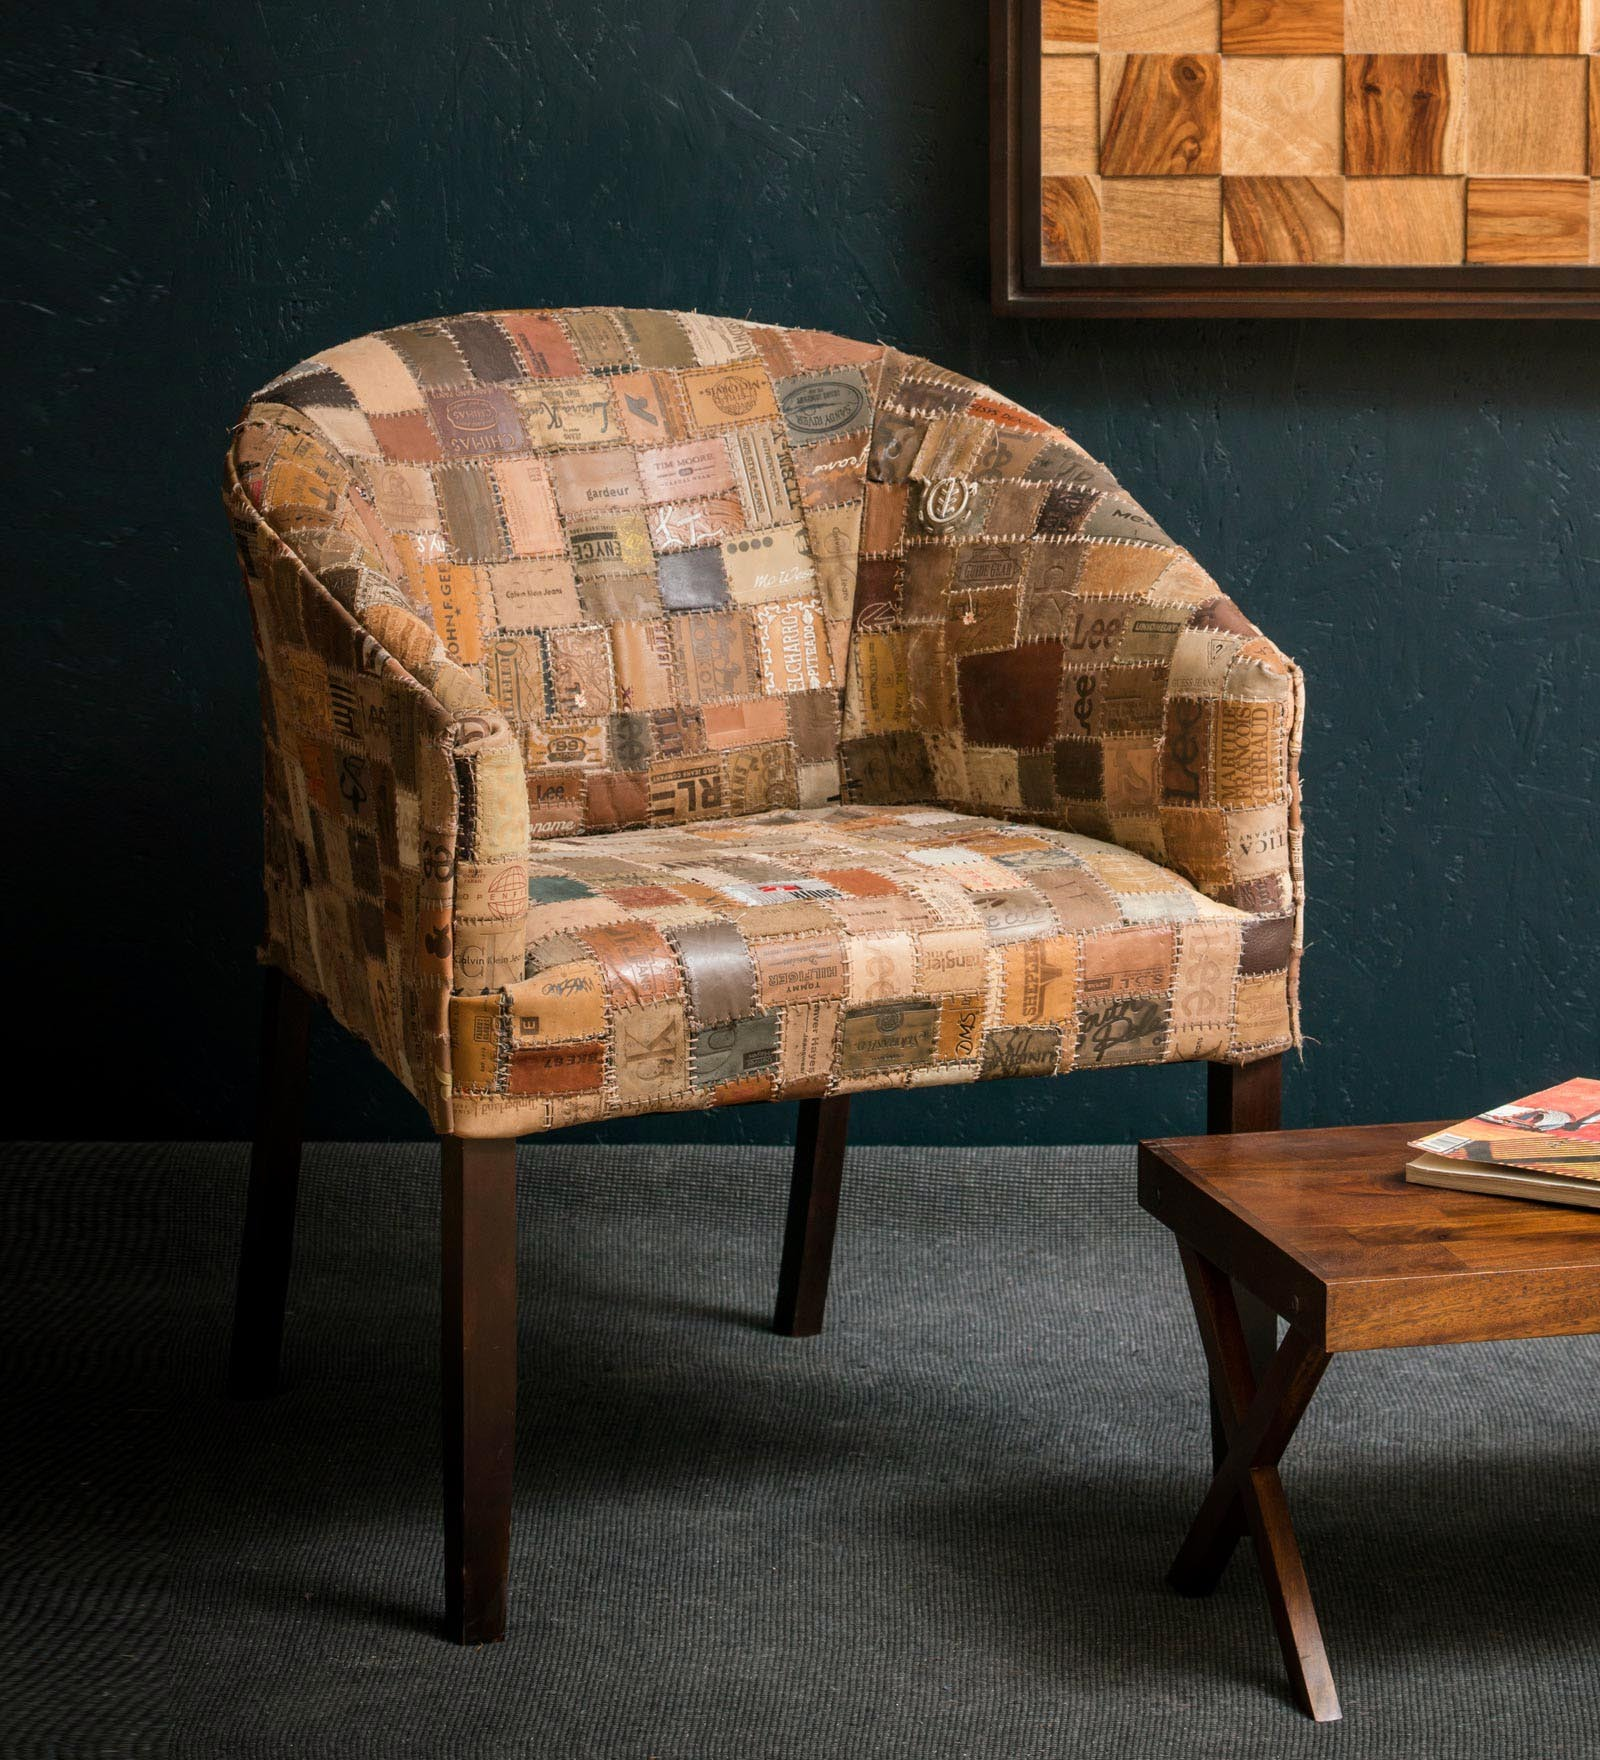Toby Tob Innova Chair with Denim Label Patch Design by Inliving: (175, 244, 1353, 1683)
